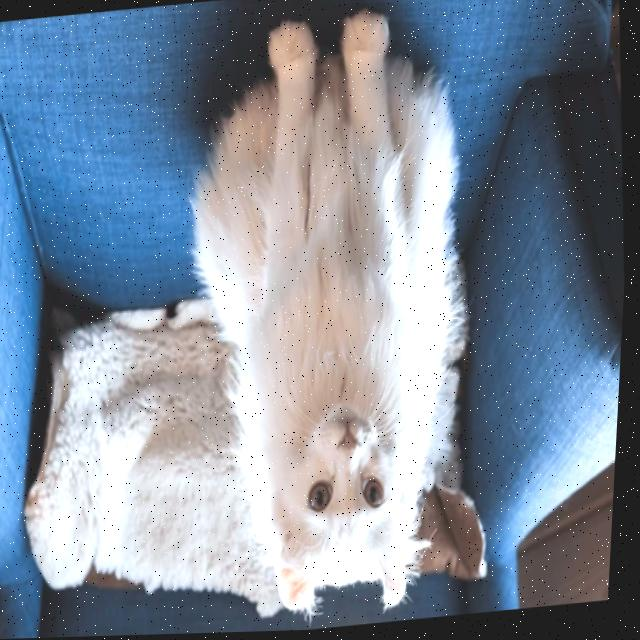American Curl: (158, 0, 502, 636)
